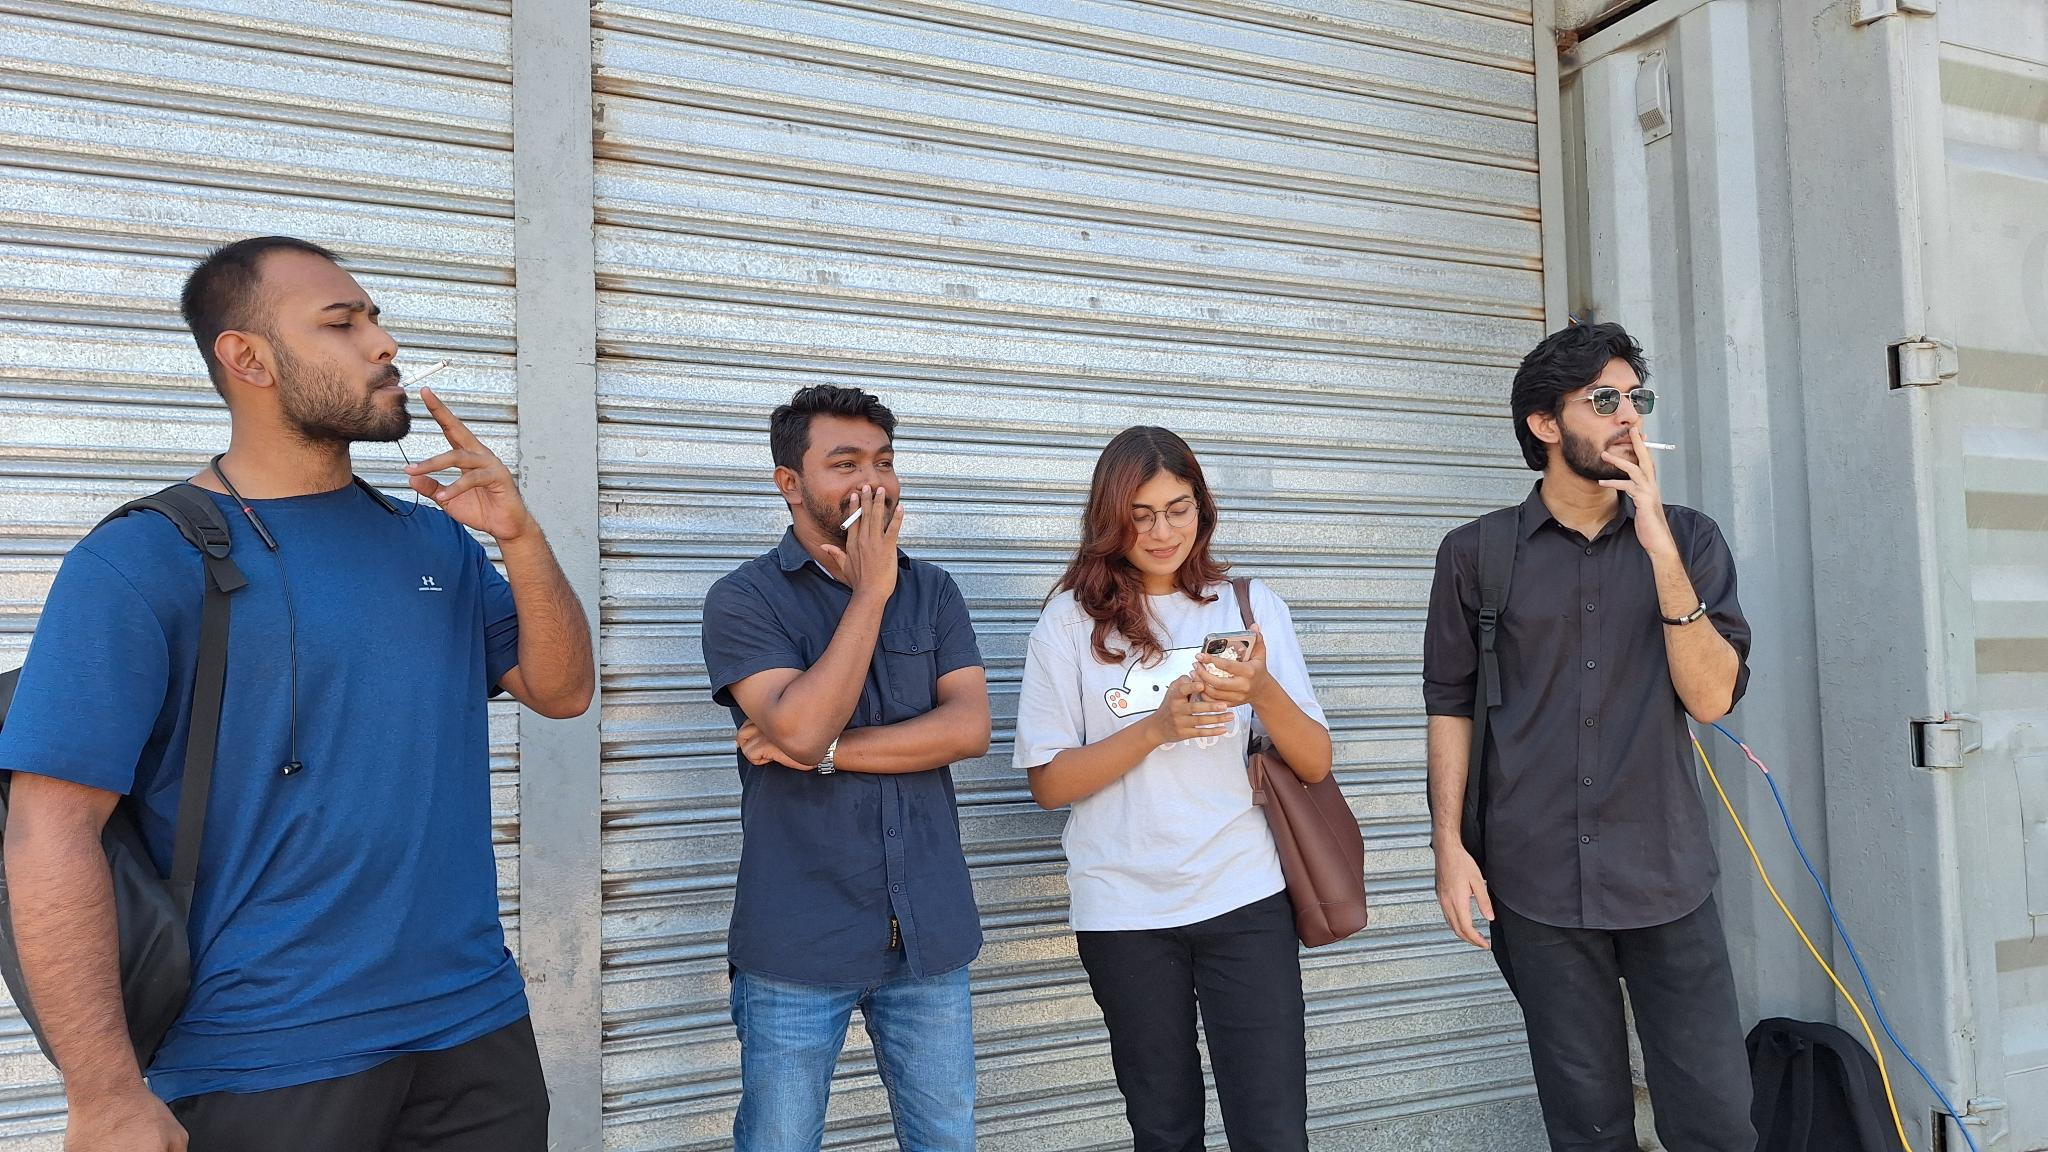cigarette: (394, 357, 456, 391), (838, 506, 864, 532), (1641, 440, 1677, 452)
nonSmoker: (1011, 425, 1369, 1152)
smoker: (0, 236, 595, 1152), (1422, 324, 1758, 1152), (700, 385, 992, 1152)
